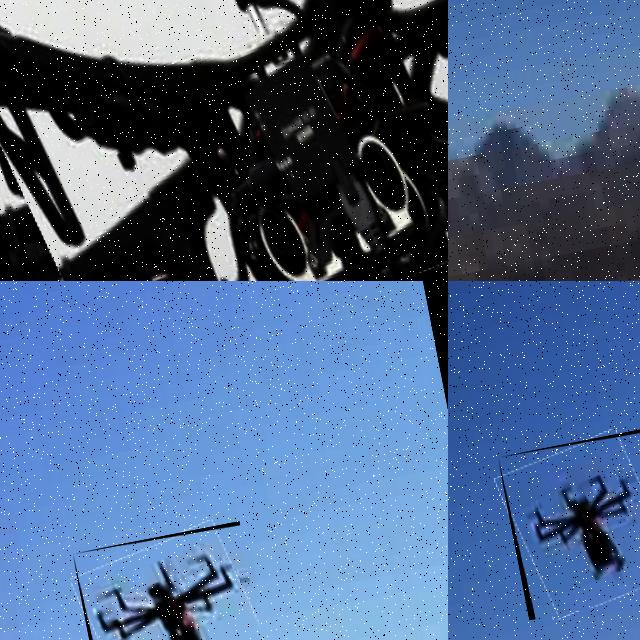drone: (0, 0, 448, 281), (498, 429, 640, 620), (72, 521, 273, 640)
